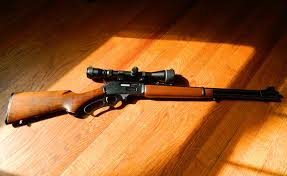gun: (6, 66, 280, 124)
